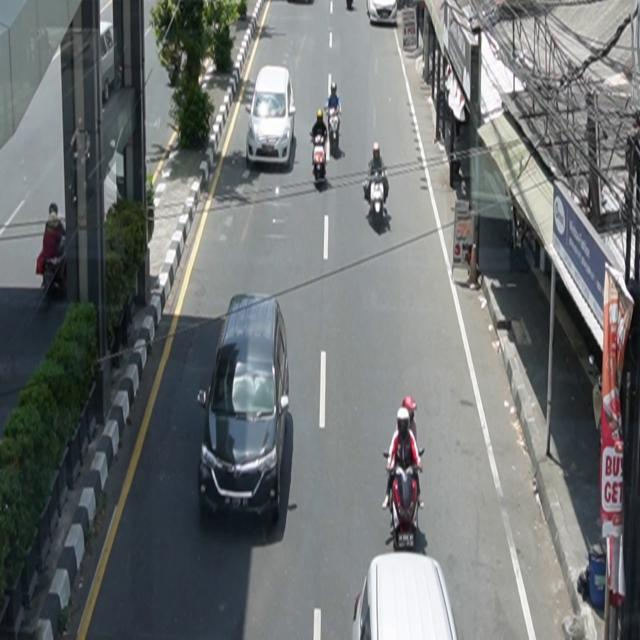car: (198, 293, 291, 523), (353, 552, 460, 640), (247, 65, 297, 168), (366, 1, 398, 26)
